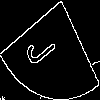J: (24, 24, 63, 70)
